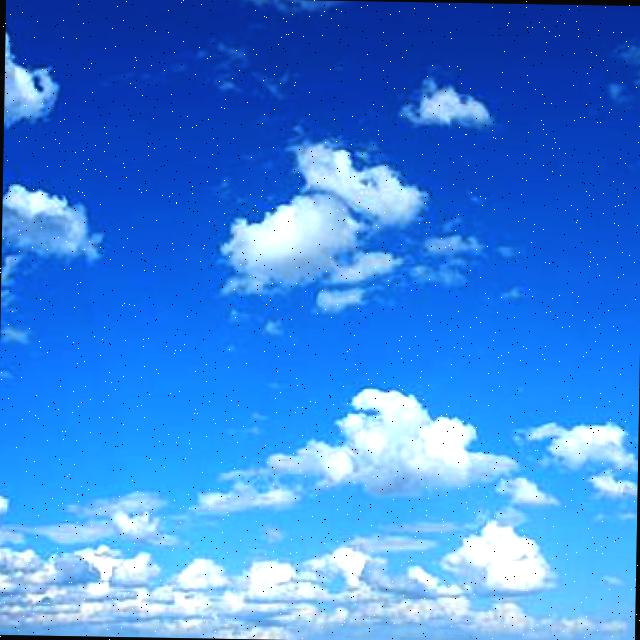Cu: (1, 7, 640, 565)
